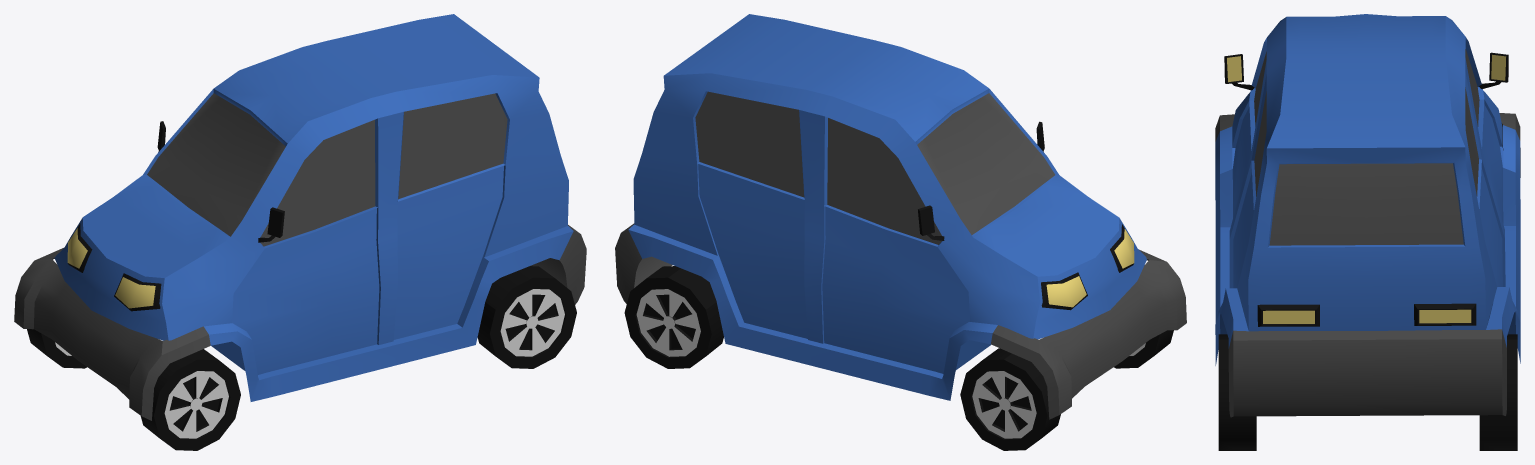
Rendered from low poly blue car.glb.
3 views of the same model, side by side, from view 1: azimuth 30°, elevation 25°; view 2: azimuth 150°, elevation 25°; view 3: azimuth 270°, elevation 25° (orthographic). The views are drawn at different scales.
Visible parts, largest first — view 1: CarBody_Body, Bumper_Plane.003, Wheel, HeadLight, Mirror; view 2: CarBody_Body, Bumper_Plane.003, Wheel, HeadLight, Mirror; view 3: CarBody_Body, Bumper_Plane.003, Wheel, TailLight, Mirror.
Boxes of the visible parts, bbox=[...] form: CarBody_Body: bbox=[54, 14, 568, 374]; Bumper_Plane.003: bbox=[14, 225, 586, 420]; Wheel: bbox=[27, 266, 576, 450]; HeadLight: bbox=[67, 223, 161, 311]; Mirror: bbox=[157, 121, 284, 242]; CarBody_Body: bbox=[633, 14, 1146, 373]; Bumper_Plane.003: bbox=[615, 223, 1186, 419]; Wheel: bbox=[624, 266, 1173, 450]; HeadLight: bbox=[1041, 224, 1134, 310]; Mirror: bbox=[918, 121, 1044, 240]; CarBody_Body: bbox=[1229, 14, 1505, 331]; Bumper_Plane.003: bbox=[1215, 113, 1520, 417]; Wheel: bbox=[1218, 144, 1517, 450]; TailLight: bbox=[1257, 303, 1476, 326]; Mirror: bbox=[1224, 52, 1508, 90].
Bounding box in the file's own units: 2.07 × 1.24 × 1.04.
